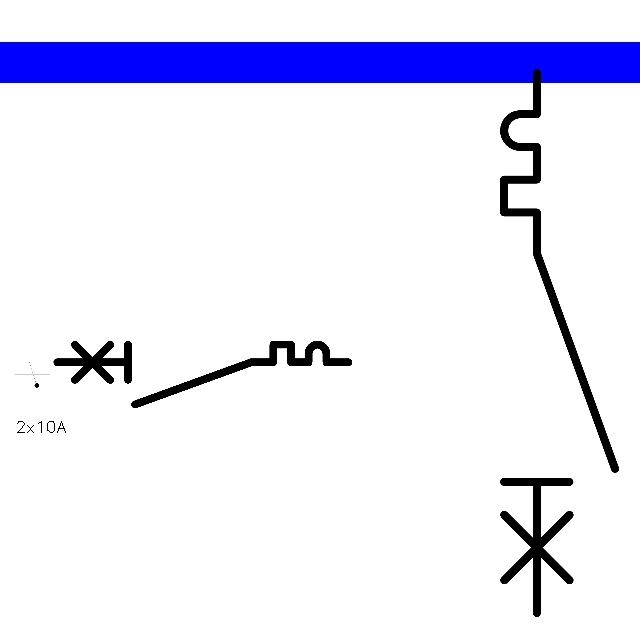interruptor_termomagnetico: (490, 59, 629, 627), (49, 337, 355, 412)
